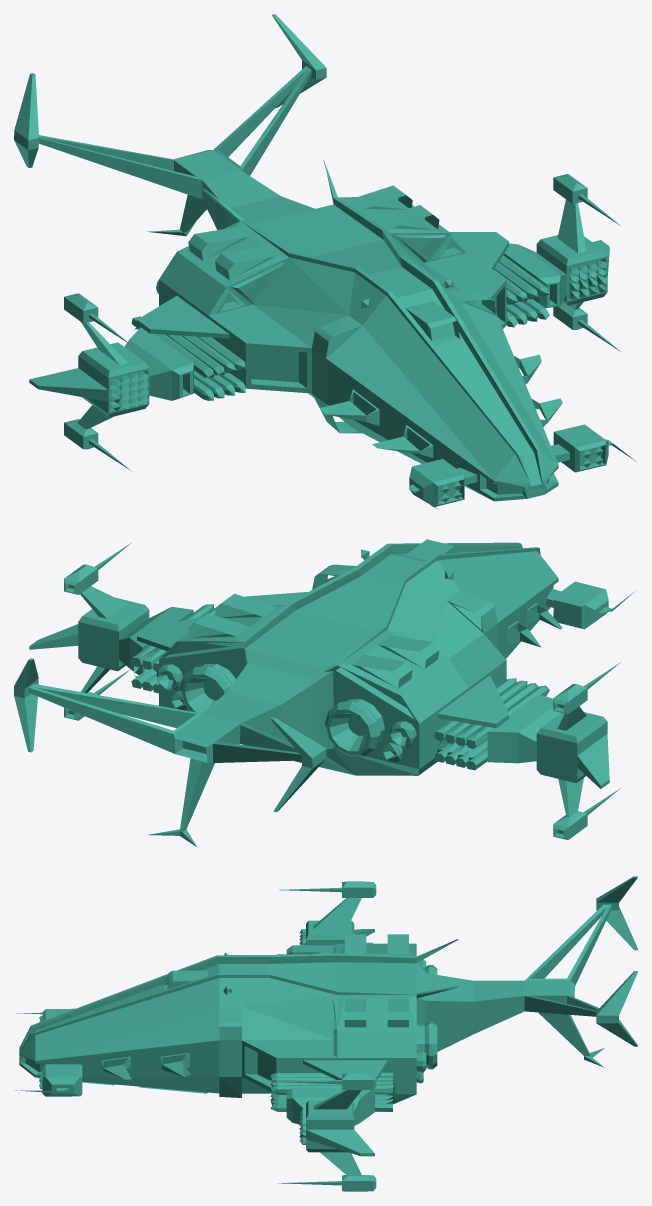
The model's file is CobraBomber2.obj.
3 views of the same model, one above another, from view 1: azimuth 30°, elevation 25°; view 2: azimuth 150°, elevation 25°; view 3: azimuth 270°, elevation 25° (orthographic). The views are drawn at different scales.
Parts seen in each view (by area): view 1: CobraBomber_CobraBomber.002; view 2: CobraBomber_CobraBomber.002; view 3: CobraBomber_CobraBomber.002.
Boxes of the visible parts, x1,y1,x2,y2 form: CobraBomber_CobraBomber.002: [14, 14, 636, 509]; CobraBomber_CobraBomber.002: [14, 539, 636, 847]; CobraBomber_CobraBomber.002: [15, 876, 637, 1191].
Size of the model in its own units: 0.6141 by 0.2193 by 0.7219.
